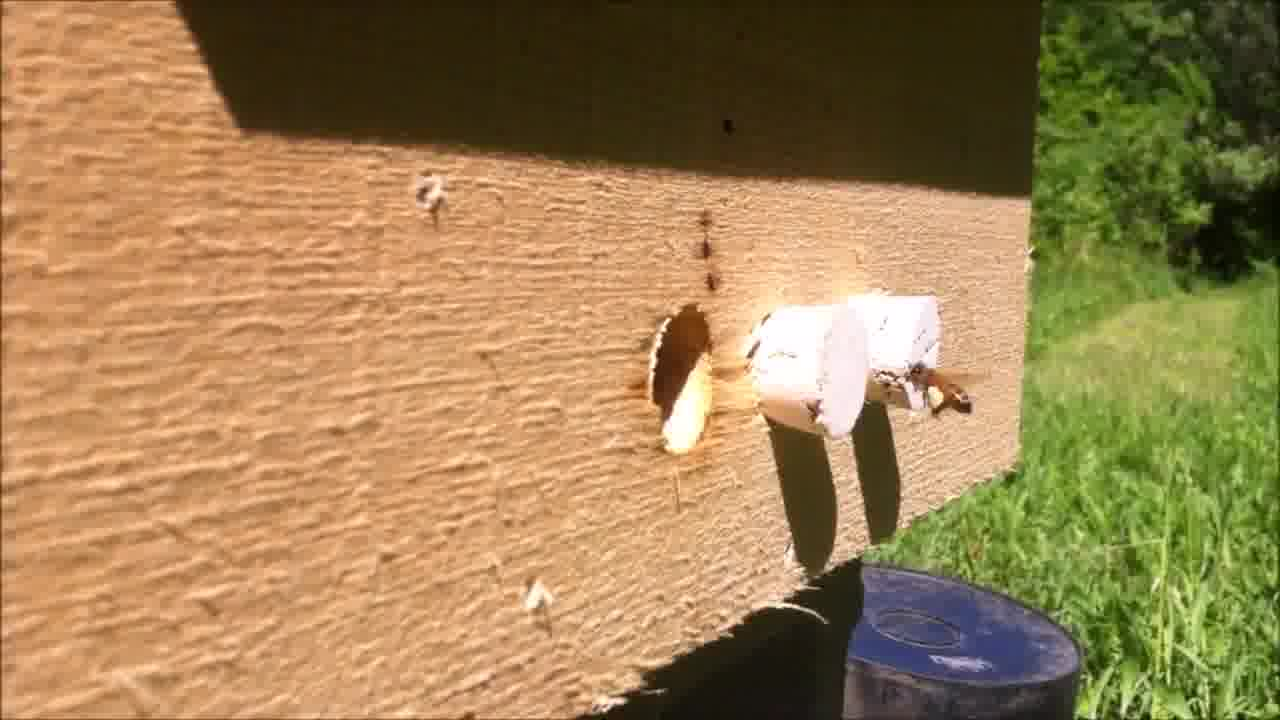pollen: (900, 357, 978, 422)
